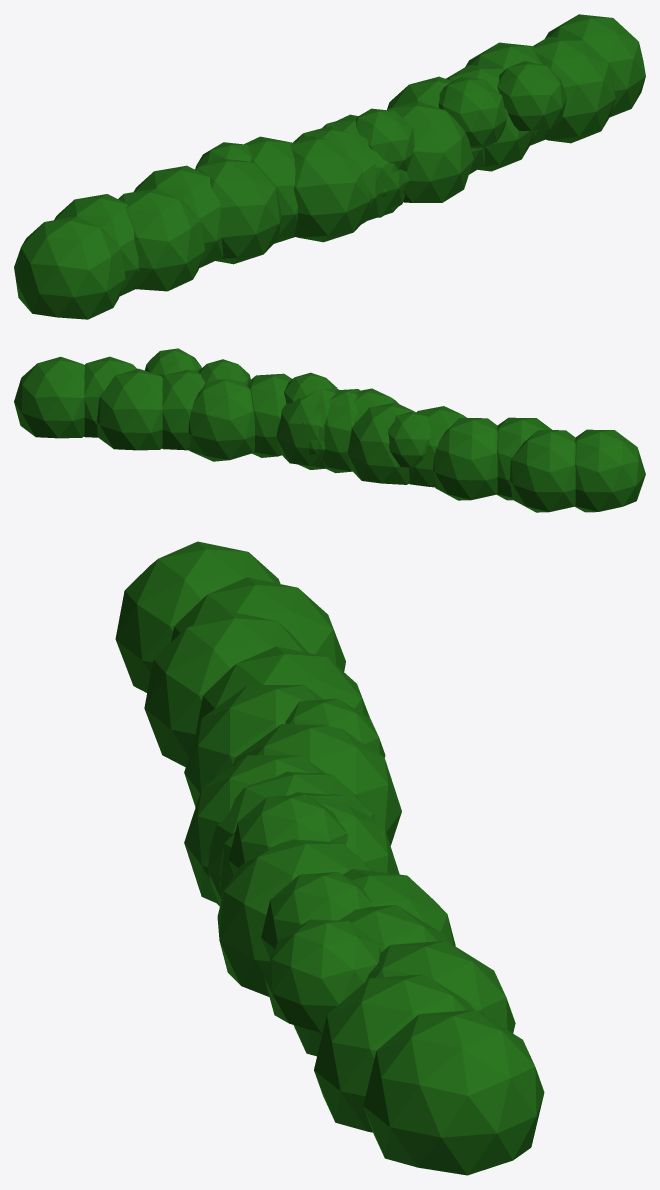
File: Hedge.fbx
The picture shows the model from 3 angles, top to bottom: view 1: azimuth 30°, elevation 25°; view 2: azimuth 150°, elevation 25°; view 3: azimuth 270°, elevation 25°; orthographic projection. The views are drawn at different scales.
Parts seen in each view (by area): view 1: GeoSphere011; view 2: GeoSphere011; view 3: GeoSphere011.
Part boxes in pixels (box(x1,y1,x2,y2)): GeoSphere011: box(14, 14, 645, 319); GeoSphere011: box(14, 348, 645, 512); GeoSphere011: box(115, 541, 544, 1175).
Size of the model in its own units: 1298 by 178 by 433.
